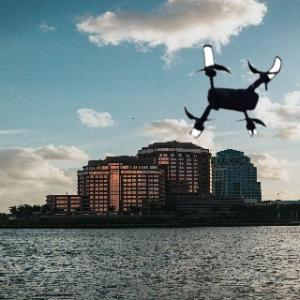drone: (172, 29, 292, 149)
